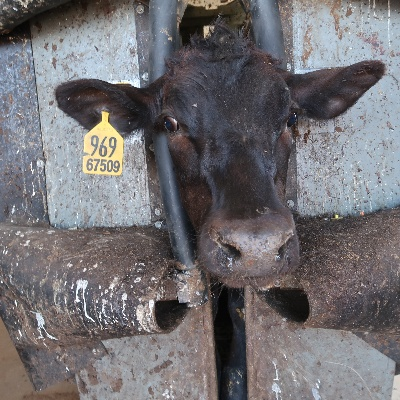fidget_spinner: (202, 200, 314, 286)
